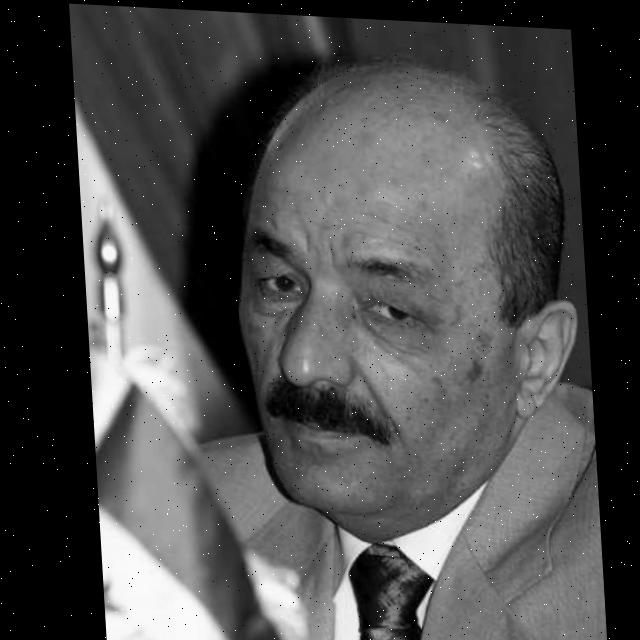face: (223, 31, 587, 573)
